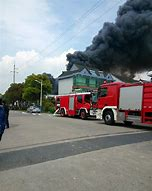smoke: (66, 1, 152, 67)
